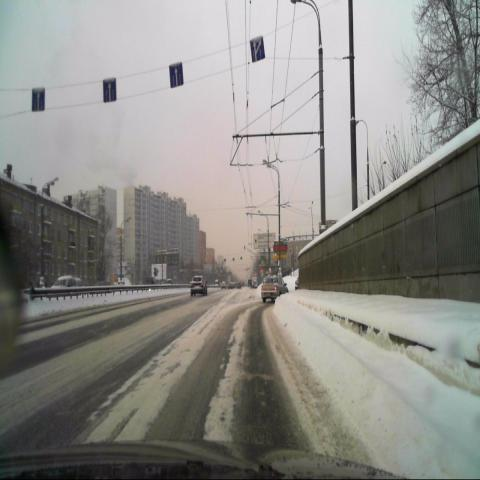5_15_2: (31, 88, 44, 112)
